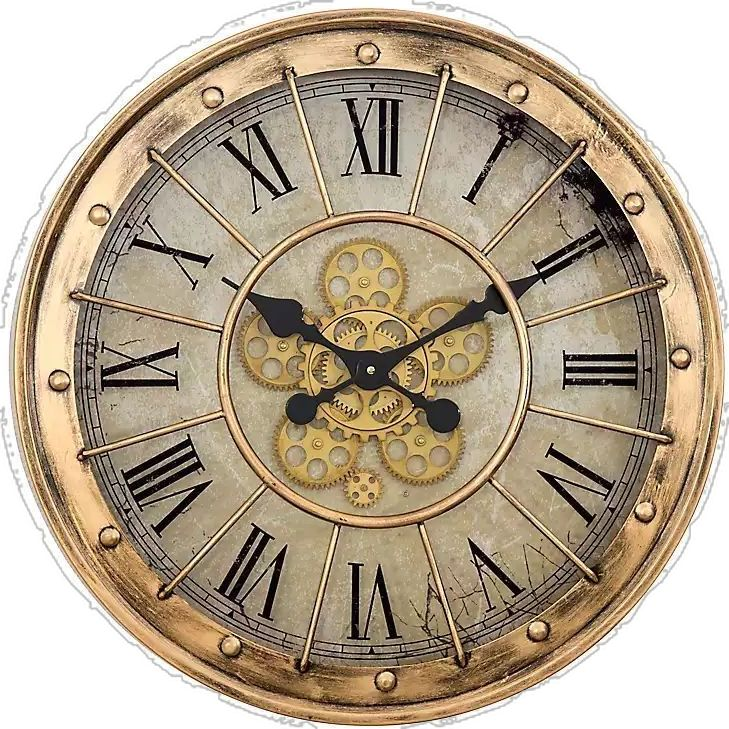clock: (13, 6, 726, 729)
